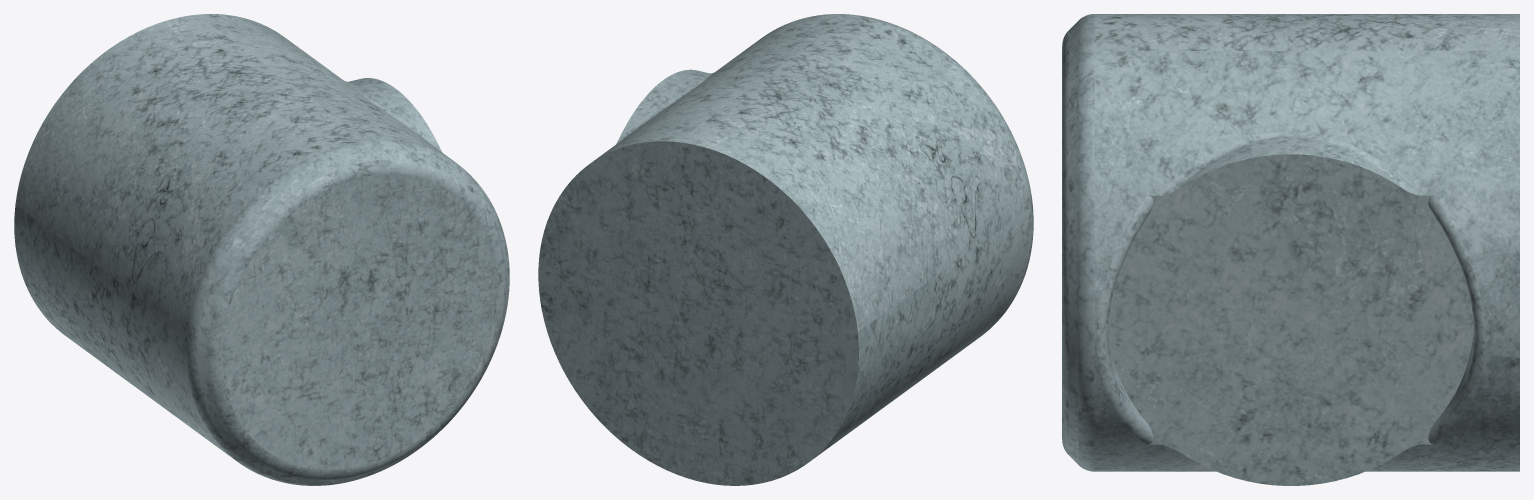
Rendered from Shoulder 1.obj.
The picture shows the model from 3 angles, left to right: view 1: azimuth 30°, elevation 25°; view 2: azimuth 150°, elevation 25°; view 3: azimuth 270°, elevation 25°; orthographic projection. The views are drawn at different scales.
Parts seen in each view (by area): view 1: mesh4, mesh0, mesh1, mesh2, mesh3, mesh11; view 2: mesh5, mesh4, mesh11, mesh3; view 3: mesh12, mesh4, mesh3, mesh2, mesh6, mesh8, mesh1, mesh11, mesh10.
Boxes of the visible parts, x1=… form: mesh4: x1=14, y1=14, x2=451, y2=457; mesh0: x1=222, y1=174, x2=497, y2=469; mesh1: x1=208, y1=159, x2=506, y2=479; mesh2: x1=197, y1=149, x2=508, y2=484; mesh3: x1=186, y1=140, x2=509, y2=485; mesh11: x1=350, y1=78, x2=439, y2=147; mesh5: x1=538, y1=141, x2=858, y2=485; mesh4: x1=593, y1=15, x2=1031, y2=458; mesh11: x1=619, y1=69, x2=707, y2=138; mesh3: x1=777, y1=14, x2=1033, y2=329; mesh12: x1=1108, y1=154, x2=1473, y2=485; mesh4: x1=1094, y1=14, x2=1519, y2=471; mesh3: x1=1078, y1=14, x2=1094, y2=471; mesh2: x1=1069, y1=21, x2=1078, y2=464; mesh6: x1=1428, y1=195, x2=1485, y2=444; mesh8: x1=1096, y1=195, x2=1153, y2=444; mesh1: x1=1062, y1=30, x2=1068, y2=454; mesh11: x1=1182, y1=136, x2=1399, y2=186; mesh10: x1=1161, y1=131, x2=1420, y2=195.
Size of the model in its own units: 0.508 by 0.508 by 0.508.
